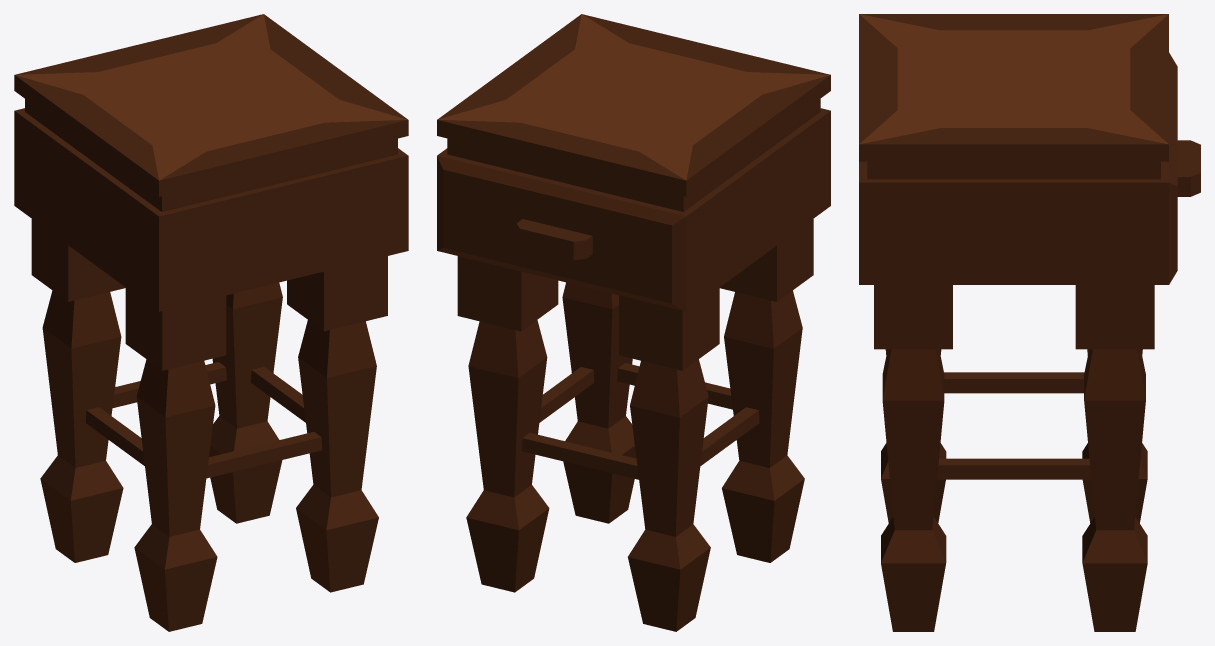
Rendered from SideTable-Small-Wooden-Classical_01.fbx.
3 views of the same model, side by side, from view 1: azimuth 30°, elevation 25°; view 2: azimuth 150°, elevation 25°; view 3: azimuth 270°, elevation 25° (orthographic). The views are drawn at different scales.
Parts seen in each view (by area): view 1: Table_SmallSideTable_01; view 2: Table_SmallSideTable_01; view 3: Table_SmallSideTable_01.
Boxes of the visible parts, left/top/right/bottom form: Table_SmallSideTable_01: left=14, top=14, right=408, bottom=631; Table_SmallSideTable_01: left=437, top=14, right=830, bottom=631; Table_SmallSideTable_01: left=859, top=14, right=1200, bottom=631.
Bounding box in the file's own units: 0.3907 × 0.7021 × 0.4326.
